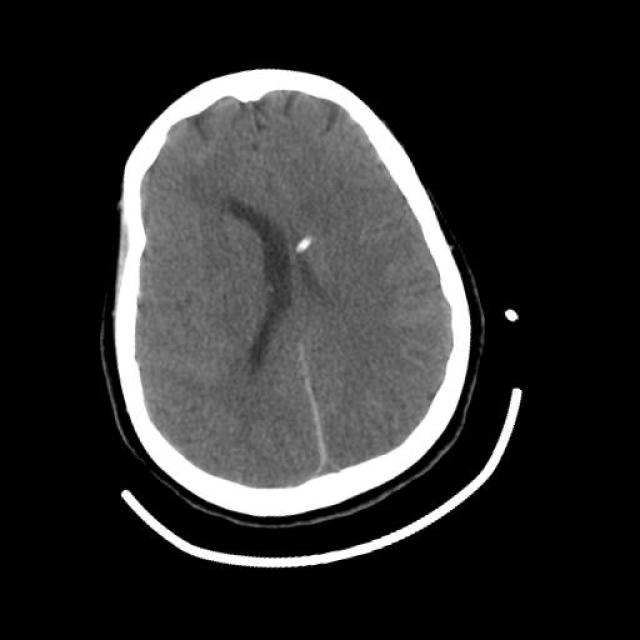Subdural: (277, 330, 363, 516)
